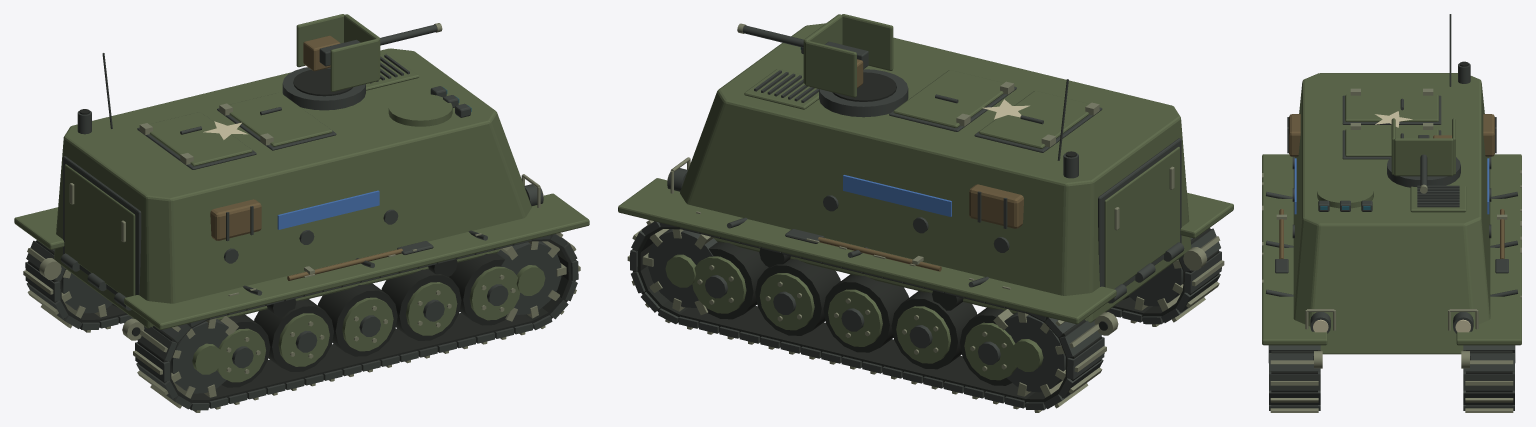
The model's file is apc.glb.
3 views of the same model, side by side, from view 1: azimuth 30°, elevation 25°; view 2: azimuth 150°, elevation 25°; view 3: azimuth 270°, elevation 25° (orthographic). The views are drawn at different scales.
Parts seen in each view (by area): view 1: Armor, Steel, Tracks, EdgeSteel, Canvas, TeamColor; view 2: Armor, Steel, Tracks, EdgeSteel, Canvas, TeamColor; view 3: Armor, Steel, EdgeSteel, Canvas, Tracks, Markings, TeamColor.
Boxes of the visible parts, x1,y1,x2,y2 form: Armor: (14,14,589,382); Steel: (25,24,578,410); Tracks: (28,68,575,407); EdgeSteel: (23,23,580,412); Canvas: (210,35,402,280); TeamColor: (277,190,379,229); Armor: (618,14,1233,380); Steel: (630,25,1221,410); Tracks: (633,72,1219,407); EdgeSteel: (627,23,1224,412); Canvas: (818,59,1023,271); TeamColor: (843,175,951,216); Armor: (1262,73,1521,371); Steel: (1266,14,1517,410); EdgeSteel: (1262,88,1521,412); Canvas: (1279,114,1504,258); Tracks: (1271,61,1512,405); Markings: (1313,111,1470,332); TeamColor: (1294,158,1489,214).
Bounding box in the file's own units: 5.16 × 3.24 × 3.02.
